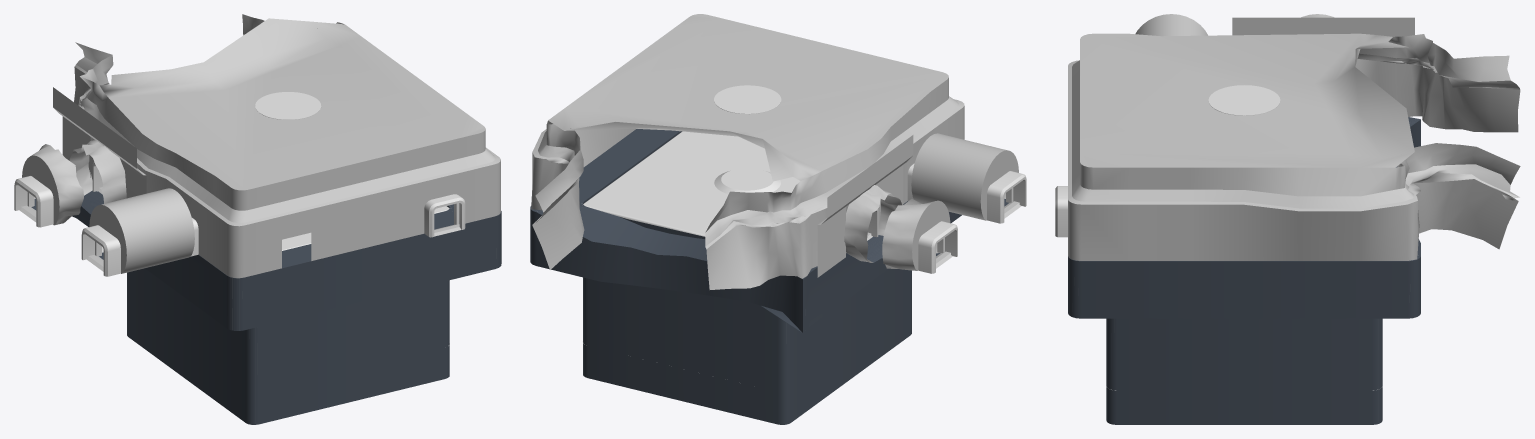
The model's file is SM_Ship_Furnace.008.fbx.
3 views of the same model, side by side, from view 1: azimuth 30°, elevation 25°; view 2: azimuth 150°, elevation 25°; view 3: azimuth 270°, elevation 25° (orthographic). The views are drawn at different scales.
Visible parts, largest first — view 1: SM_Ship_Furnace.008; view 2: SM_Ship_Furnace.008; view 3: SM_Ship_Furnace.008.
Part boxes in pixels (left/top/right/bottom): SM_Ship_Furnace.008: left=14, top=14, right=501, bottom=424; SM_Ship_Furnace.008: left=530, top=14, right=1026, bottom=424; SM_Ship_Furnace.008: left=1055, top=14, right=1520, bottom=424.
Size of the model in its own units: 7768 by 5360 by 7638.
